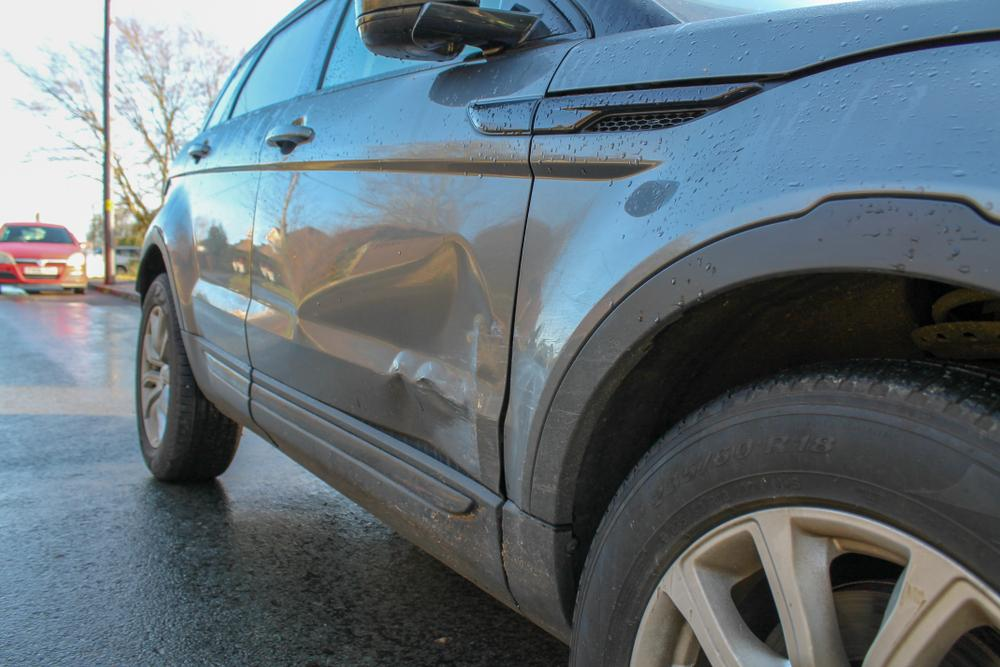dent: (296, 241, 502, 481)
